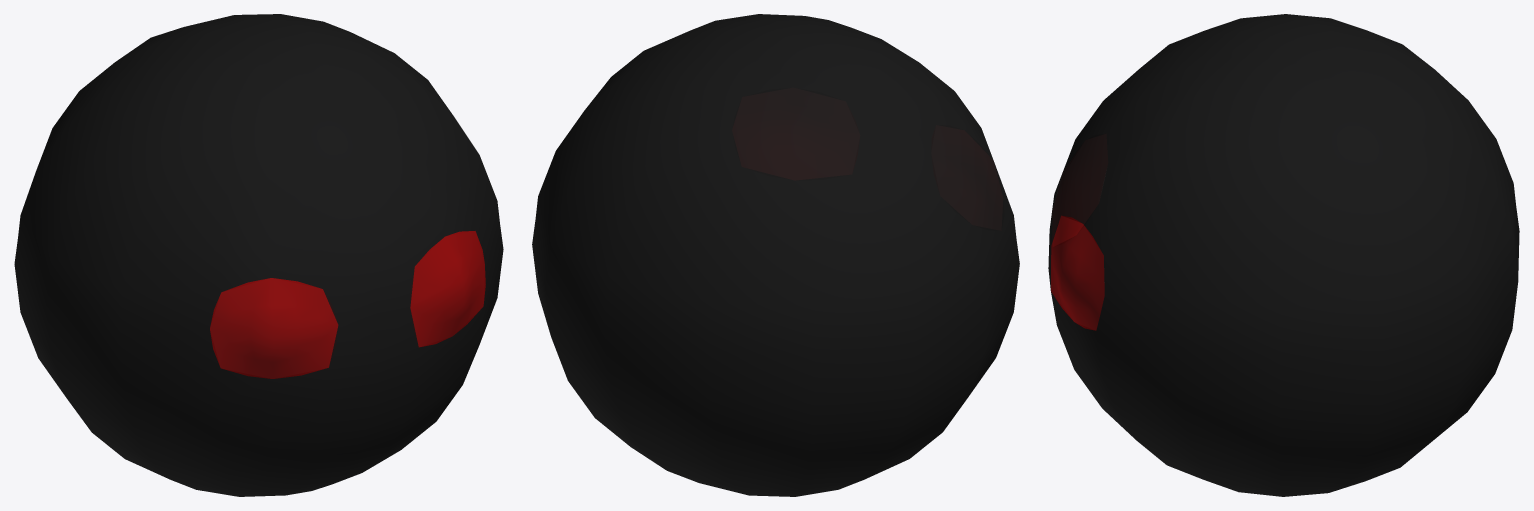
File: Gregory.fbx
3 renders of one model, left to right at view 1: azimuth 30°, elevation 25°; view 2: azimuth 150°, elevation 25°; view 3: azimuth 270°, elevation 25°, orthographic.
Parts seen in each view (by area): view 1: ball, eye_R, eye_L; view 2: ball; view 3: ball, eye_L.
Boxes of the visible parts, box(x1,y1,x2,y2) form: ball: box(14, 14, 503, 496); eye_R: box(210, 278, 338, 378); eye_L: box(410, 231, 485, 347); ball: box(532, 14, 1019, 496); ball: box(1048, 14, 1519, 496); eye_L: box(1051, 215, 1104, 330).
Size of the model in its own units: 2.04 by 2 by 1.97.
